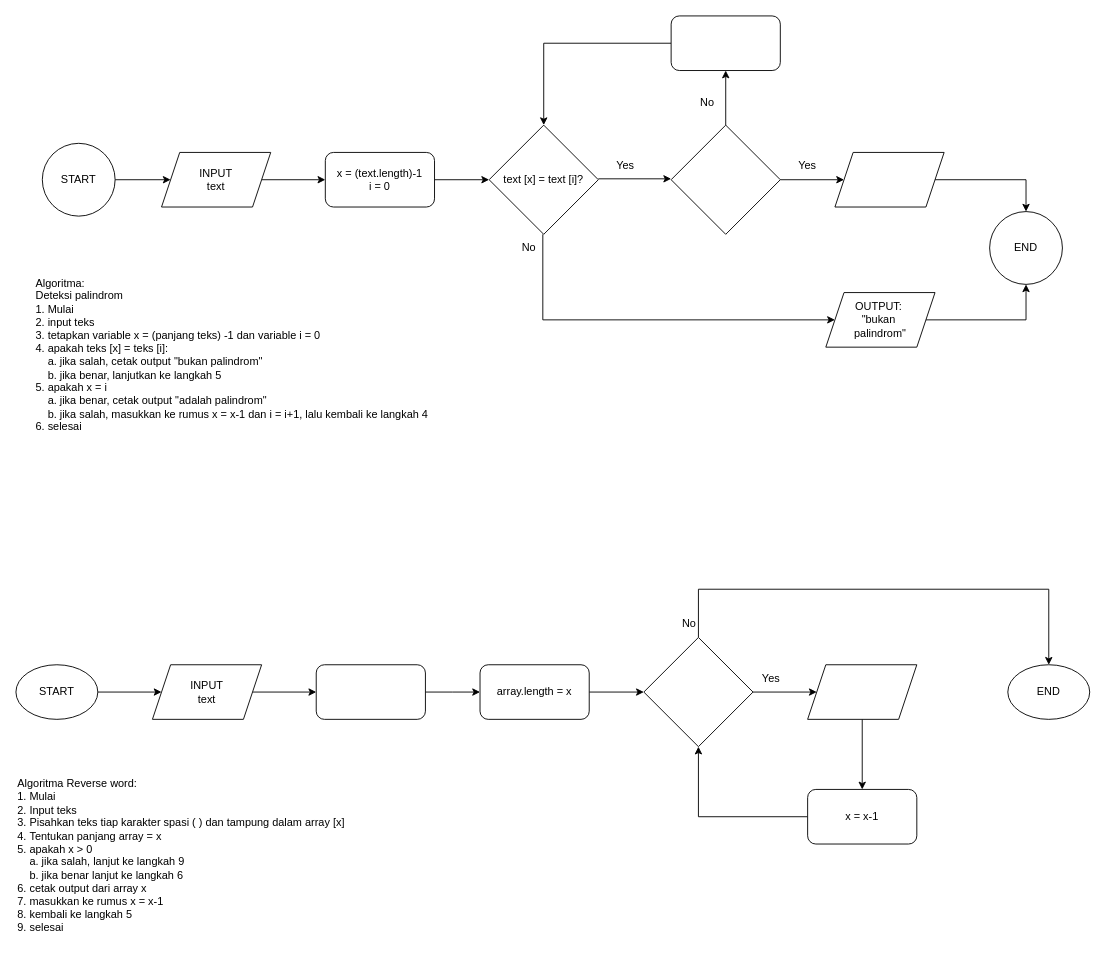
Some shapes in this 1106 by 969 pixel diagram are drawn without their labels. The shapes that lost their labels are listed below. From the top down, each one's centre as x and y in pixels, then its label:
[725,43]: x = x-1 i = i+1
[725,179]: x = i
[889,179]: OUTPUT: "adalah palindrom"
[370,691]: Pisahkan teks tiap karakter spasi ( ) tampung ke array [x]
[698,692]: x > 0
[862,691]: OUTPUT: array [x]
